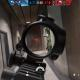Character: (40, 48, 44, 51)
Friend_label: (19, 25, 24, 28)
